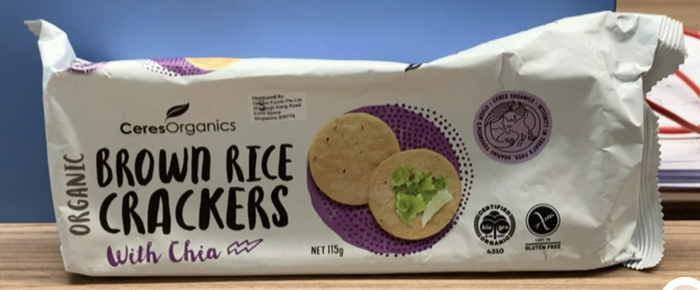crackers_100g-199g: (66, 72, 610, 260)
